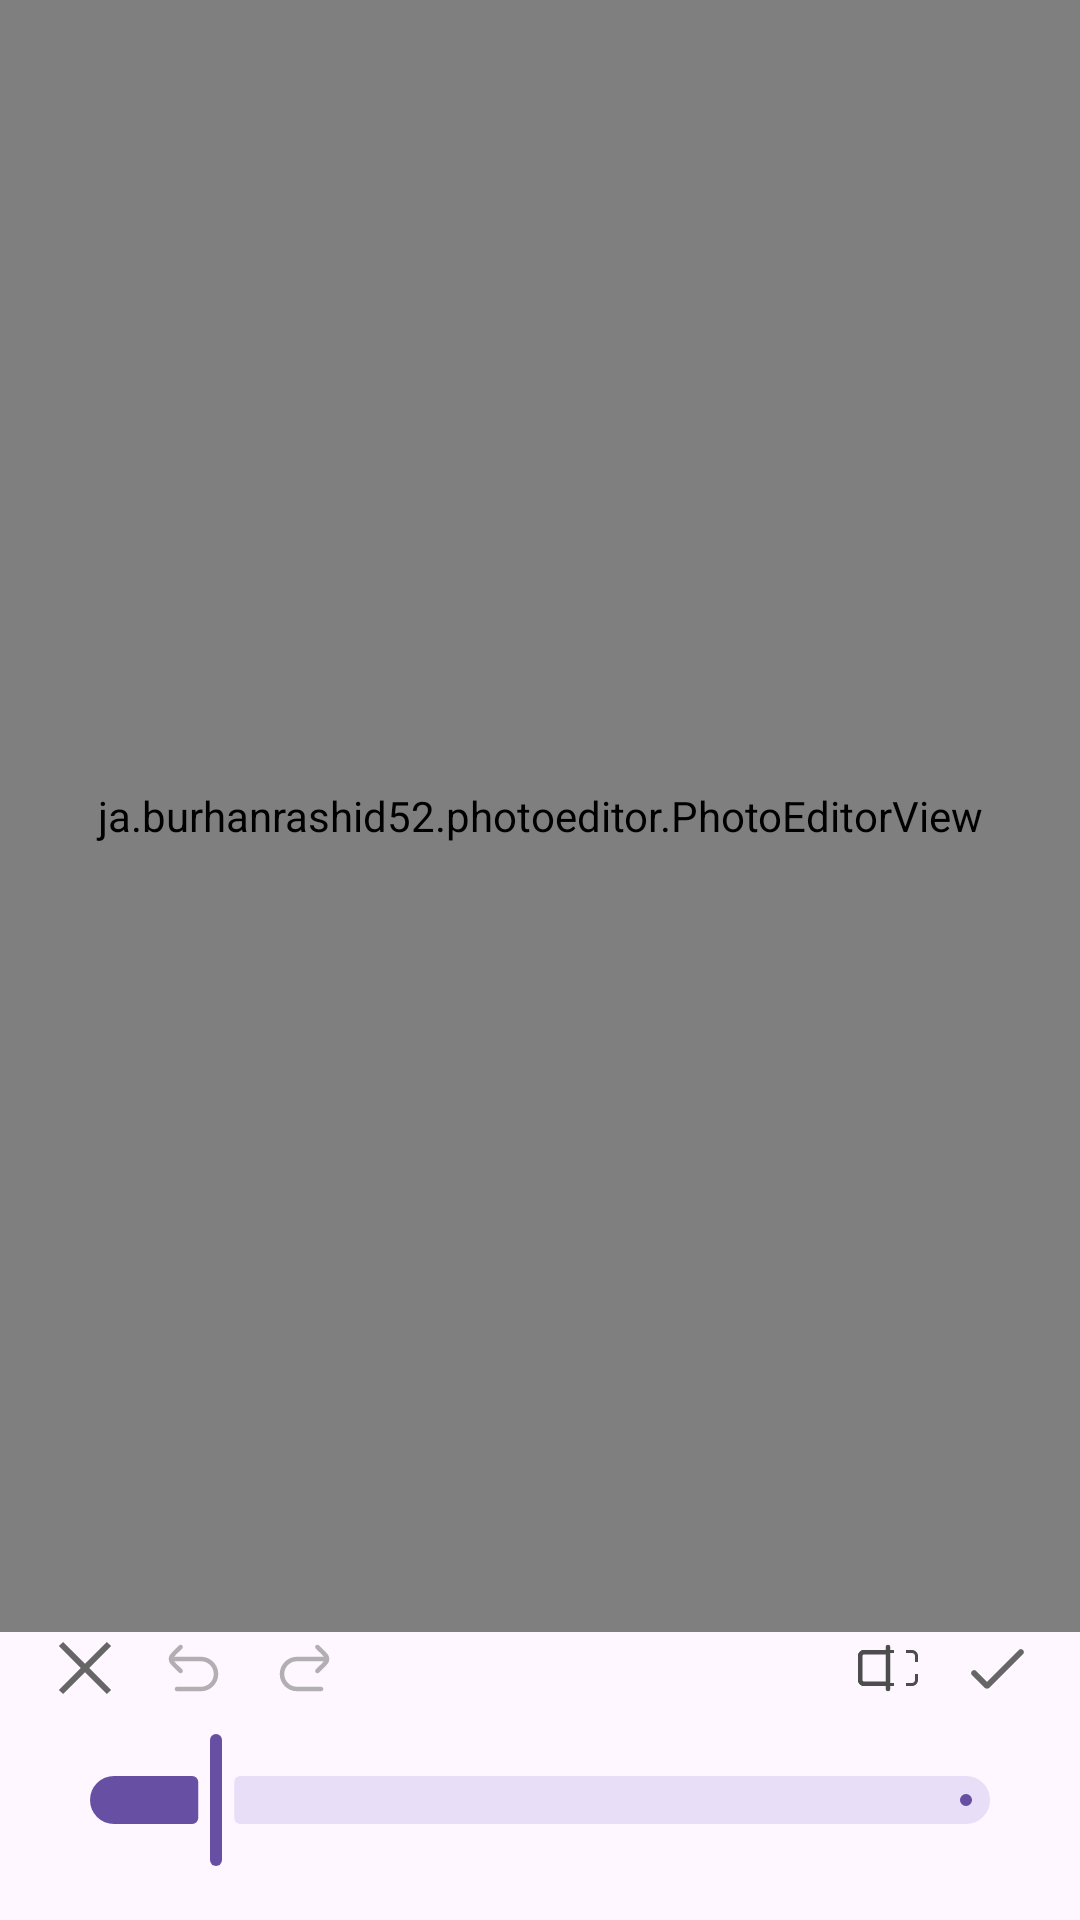

Locate icon controls on the screen. Image size 1080x1920, boxes as {"left": x1, "top": y1, "right": x2, "bottom": y2}.
close: {"left": 59, "top": 1642, "right": 111, "bottom": 1694}
tick done: {"left": 971, "top": 1649, "right": 1024, "bottom": 1689}
